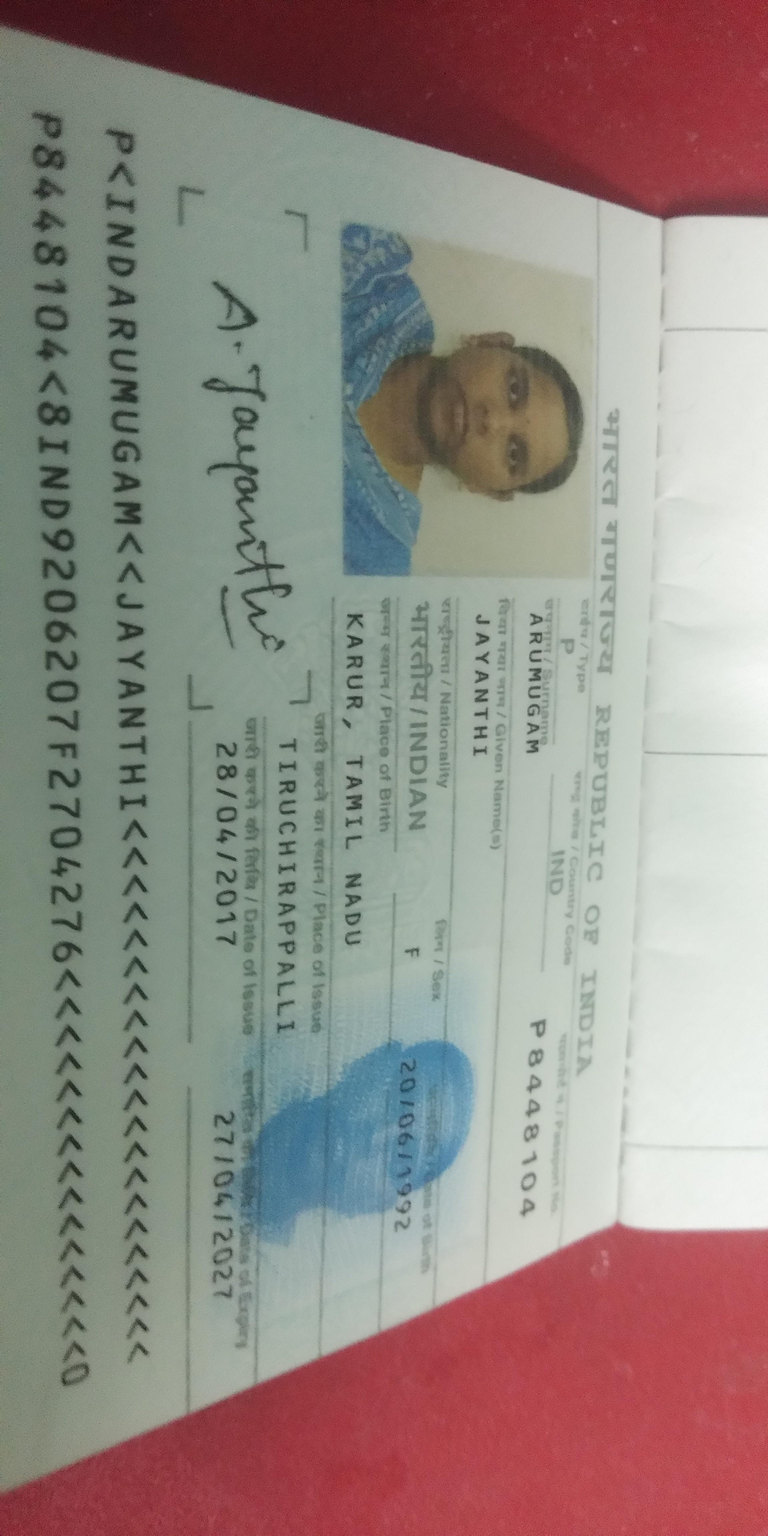DOB: (386, 1050, 418, 1243)
Surname: (521, 606, 546, 762)
country_code: (544, 841, 569, 896)
date_of_expiry: (206, 1099, 239, 1305)
date_of_issue: (206, 733, 245, 950)
details: (21, 90, 161, 1406)
name: (467, 604, 492, 770)
nationality: (402, 594, 434, 839)
passport_no: (518, 1013, 547, 1234)
photo: (341, 229, 592, 579)
place_of_birth: (339, 604, 370, 956)
place_of_issue: (269, 730, 309, 1040)
sex: (398, 938, 429, 967)
sign: (197, 275, 308, 671)
type: (554, 620, 582, 670)
